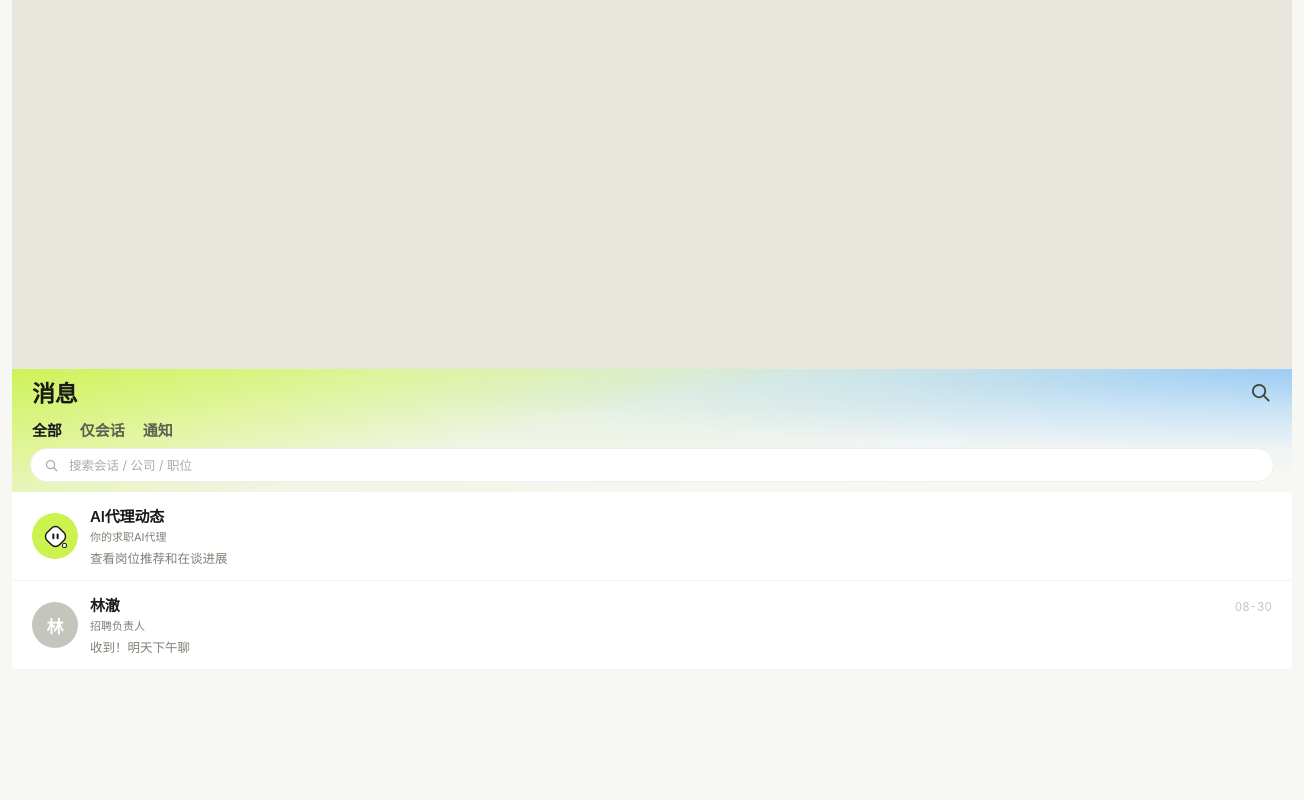
Scenario: Backend会话列表 › 「通知」页签 = 固定 AI 入口行，真人会话行不出现，也没有「还没有通知」
(page scrolled)
Click the button "通知".
click(158, 430)  # box top-left (143, 419), bottom-right (173, 440)
(page scrolled)
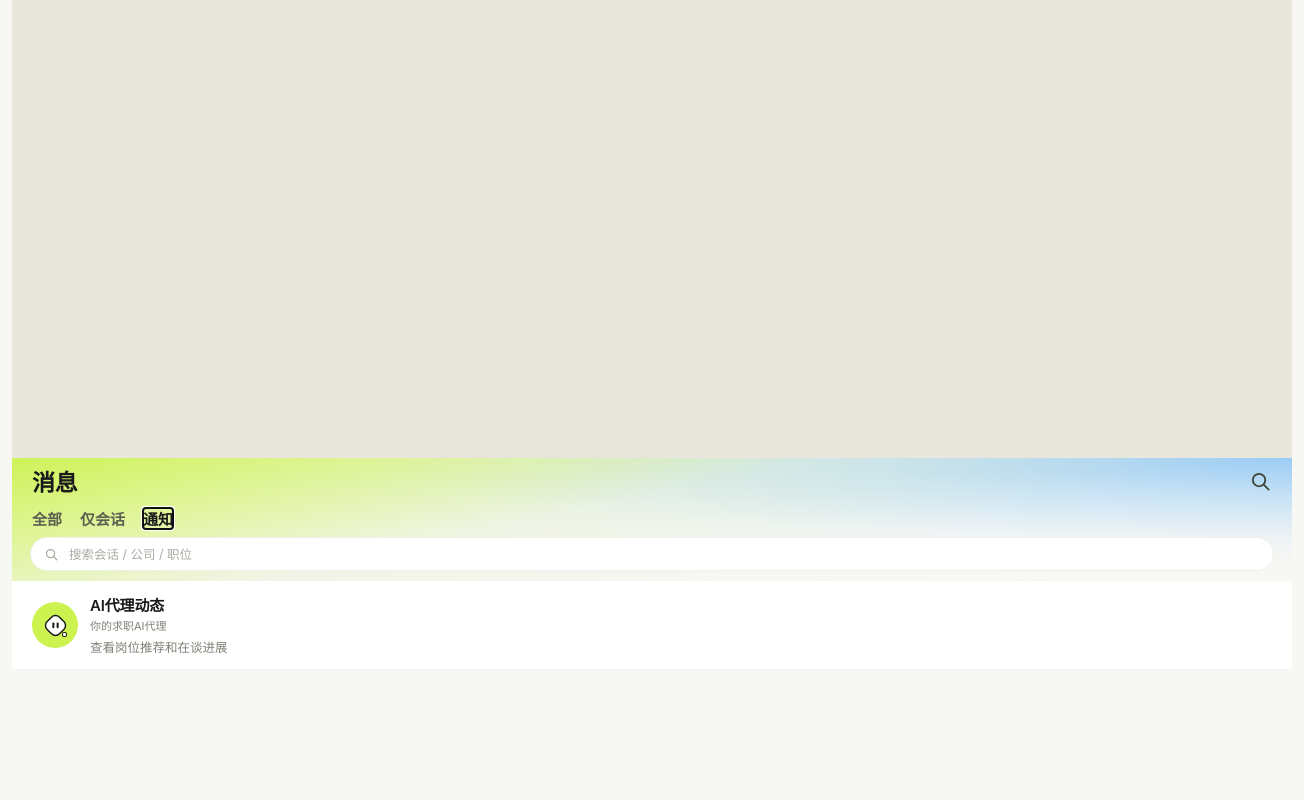
Expected: the text "AI代理动态" is shown, top-left (90, 596), bottom-right (164, 615)
Expected: the button "林澈" is gone
